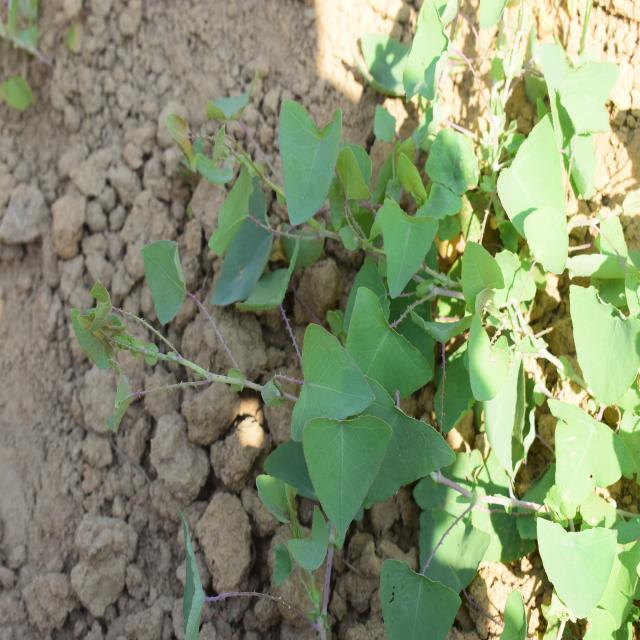Asiatic_Smartweed: (184, 100, 447, 314), (282, 279, 458, 543), (528, 393, 628, 615), (570, 272, 638, 405)
